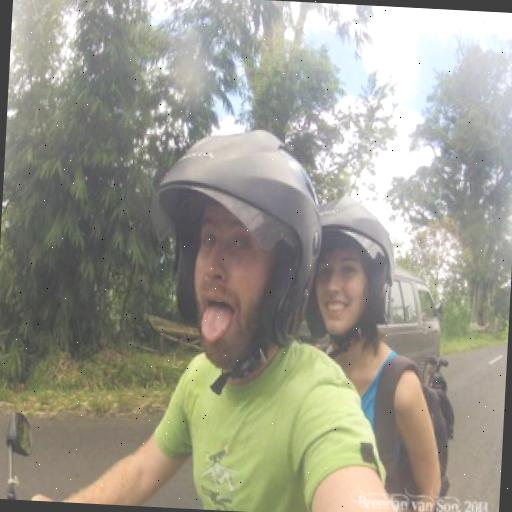helmet: (34, 97, 361, 512)
